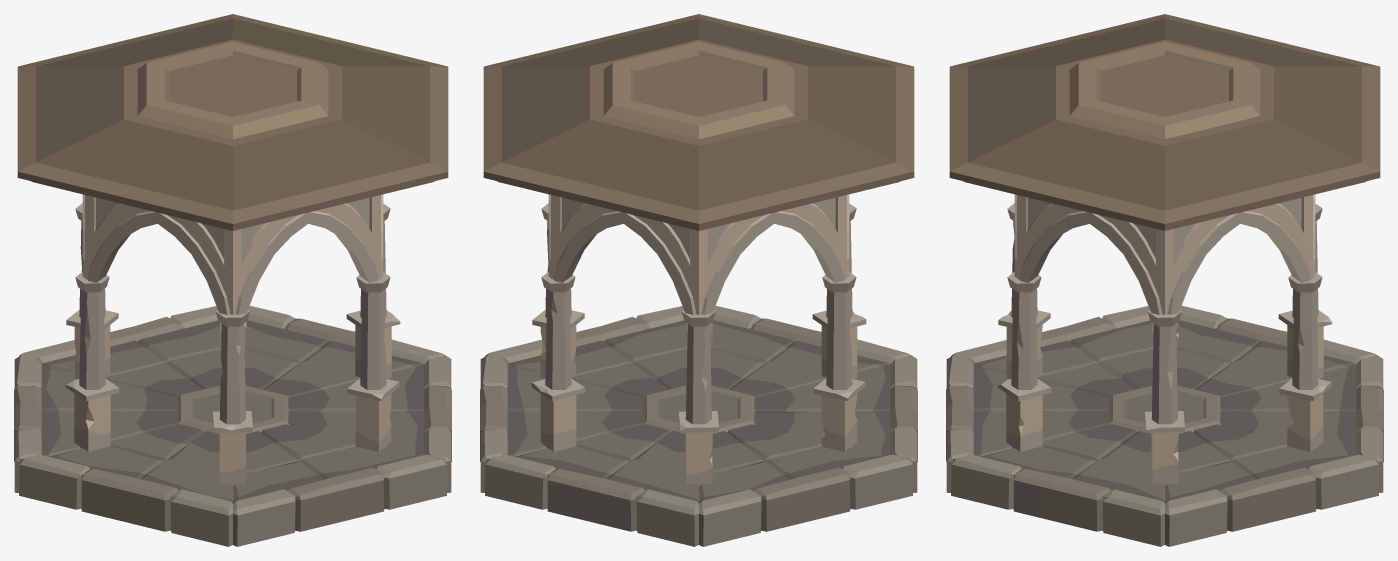
File: SM_Bld_Fountain_01.glb
The picture shows the model from 3 angles, left to right: view 1: azimuth 30°, elevation 25°; view 2: azimuth 150°, elevation 25°; view 3: azimuth 270°, elevation 25°; orthographic projection.
Parts seen in each view (by area): view 1: SM_Bld_Fountain_01; view 2: SM_Bld_Fountain_01; view 3: SM_Bld_Fountain_01.
Part boxes in pixels (x1,y1,x2,y2): SM_Bld_Fountain_01: (14,14,451,546); SM_Bld_Fountain_01: (480,14,917,546); SM_Bld_Fountain_01: (946,14,1383,546).
Size of the model in its own units: 6.35 by 5.02 by 5.57.
1 material, 1 textured.
